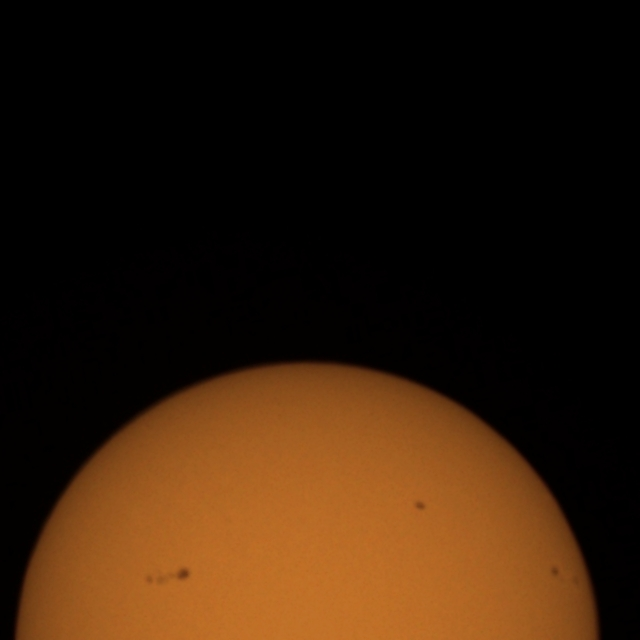sunspot: (143, 566, 192, 588), (413, 499, 428, 514), (549, 565, 561, 579)
